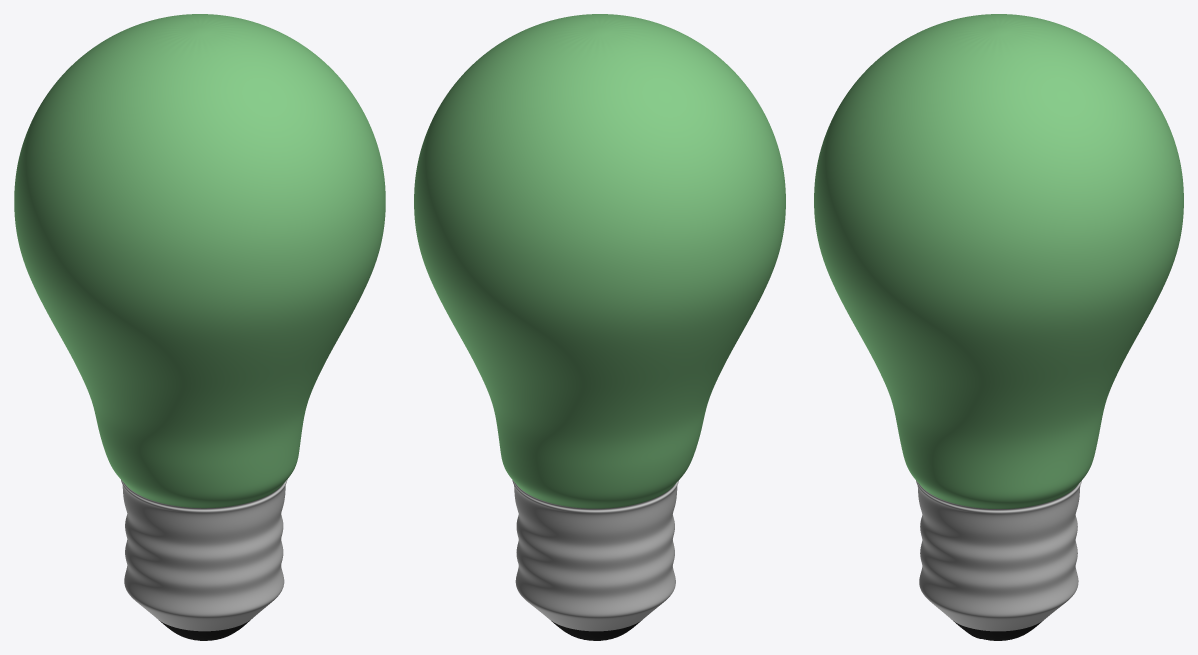
File: Lamp.fbx
3 renders of one model, left to right at view 1: azimuth 30°, elevation 25°; view 2: azimuth 150°, elevation 25°; view 3: azimuth 270°, elevation 25°, orthographic.
Visible parts, largest first — view 1: Cube; view 2: Cube; view 3: Cube.
Boxes of the visible parts, <box> form: Cube: <box>14,14,385,640</box>; Cube: <box>414,14,785,640</box>; Cube: <box>814,14,1183,640</box>.
Bounding box in the file's own units: 711 × 1276 × 711.
